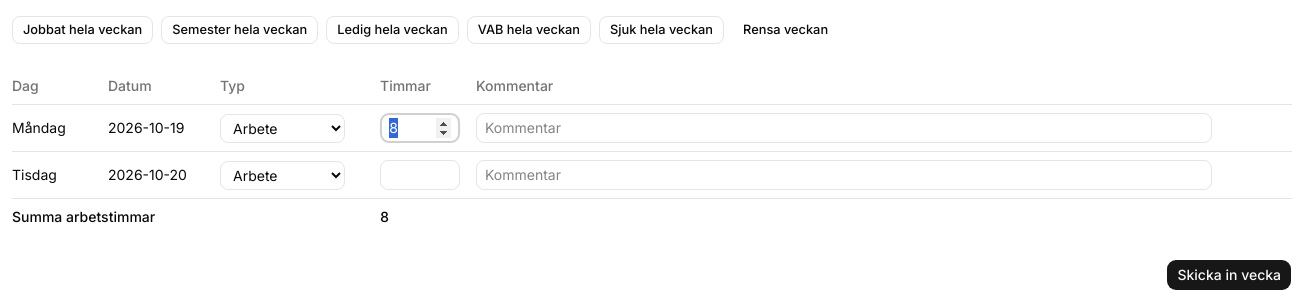
Test: WeekGrid › selects the hours on click so typing replaces the value
Type "8" into the number field named "Timmar 2026-10-20". click: (420,175)
box: top-left (380, 160), bottom-right (460, 190)
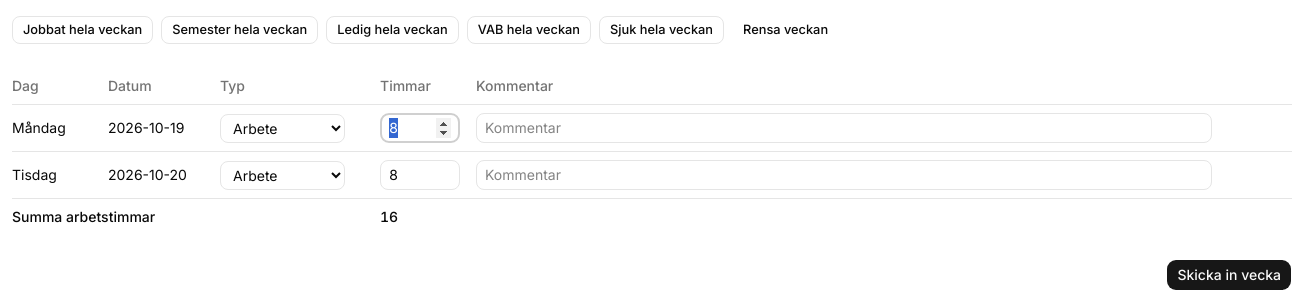
Click the number field named "Timmar 2026-10-20". click: (420,175)
box: top-left (380, 160), bottom-right (460, 190)
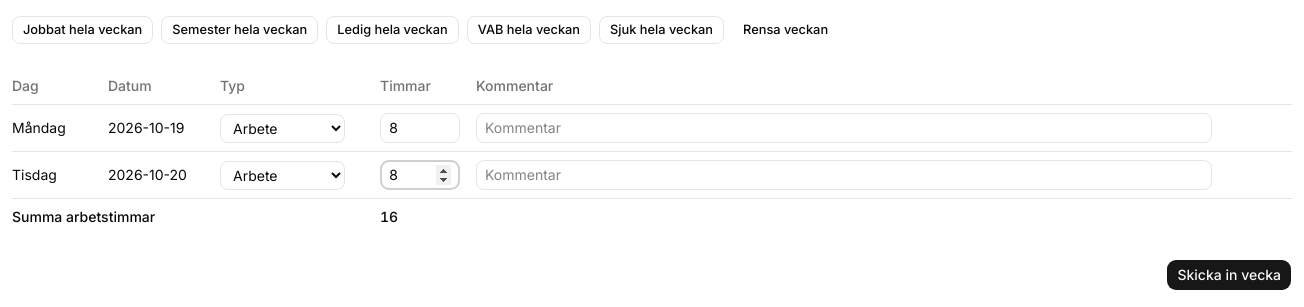
Type keys "6"
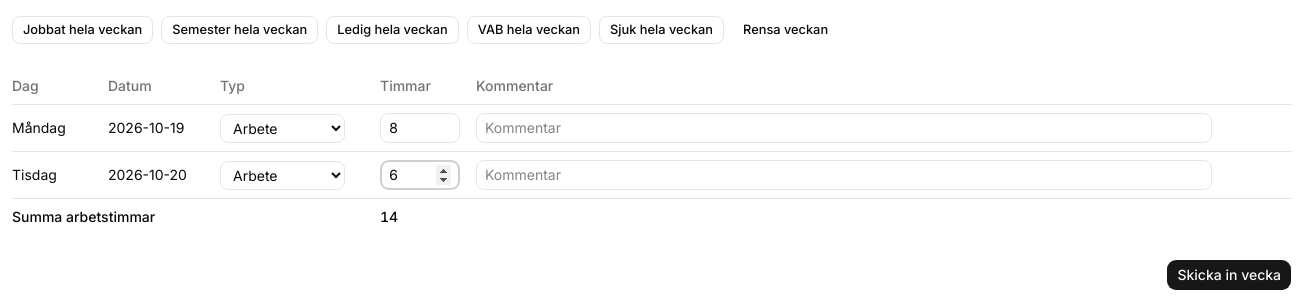
Check: the number field named "Timmar 2026-10-20" holds "6", box top-left (380, 160), bottom-right (460, 190)
